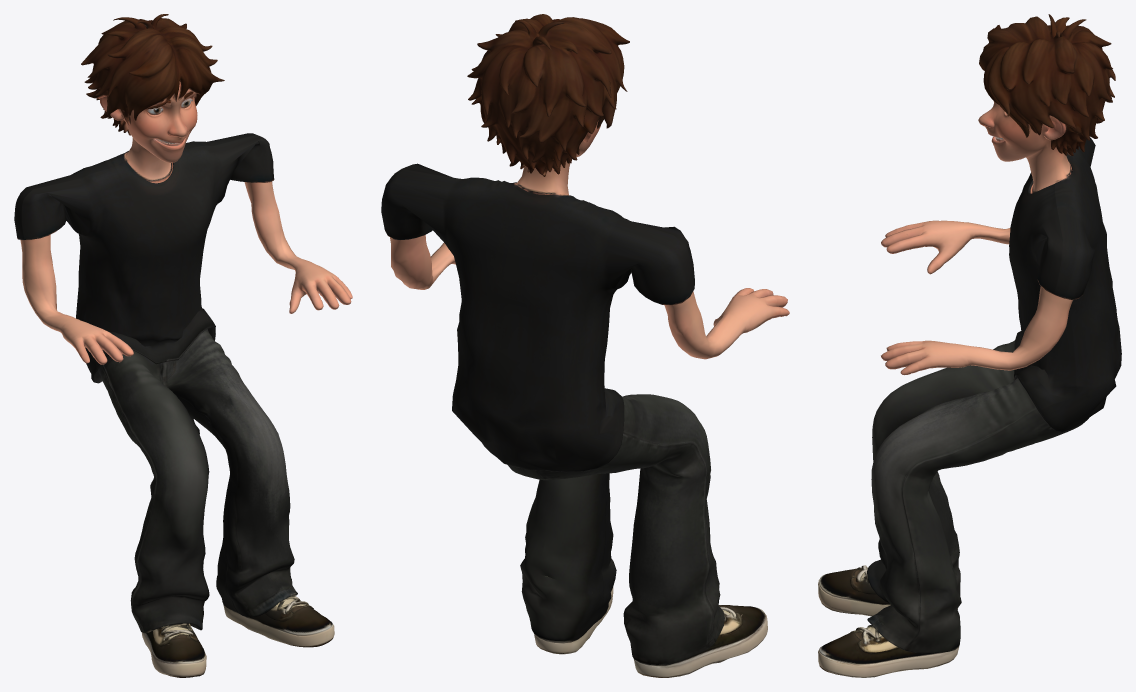
Rendered from student_sitting.glb.
3 renders of one model, left to right at view 1: azimuth 30°, elevation 25°; view 2: azimuth 150°, elevation 25°; view 3: azimuth 270°, elevation 25°, orthographic. The views are drawn at different scales.
Parts seen in each view (by area): view 1: boy character 3d model; view 2: boy character 3d model; view 3: boy character 3d model.
Boxes of the visible parts, x1=… form: boy character 3d model: x1=14, y1=14, x2=352, y2=677; boy character 3d model: x1=381, y1=14, x2=789, y2=677; boy character 3d model: x1=818, y1=14, x2=1121, y2=677.
Bounding box in the file's own units: 0.6833 × 1.38 × 0.6196.
1 material, 1 textured.
